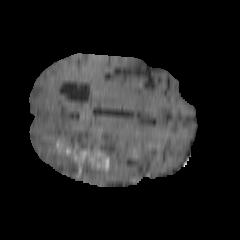glioma: (53, 109, 121, 185)
